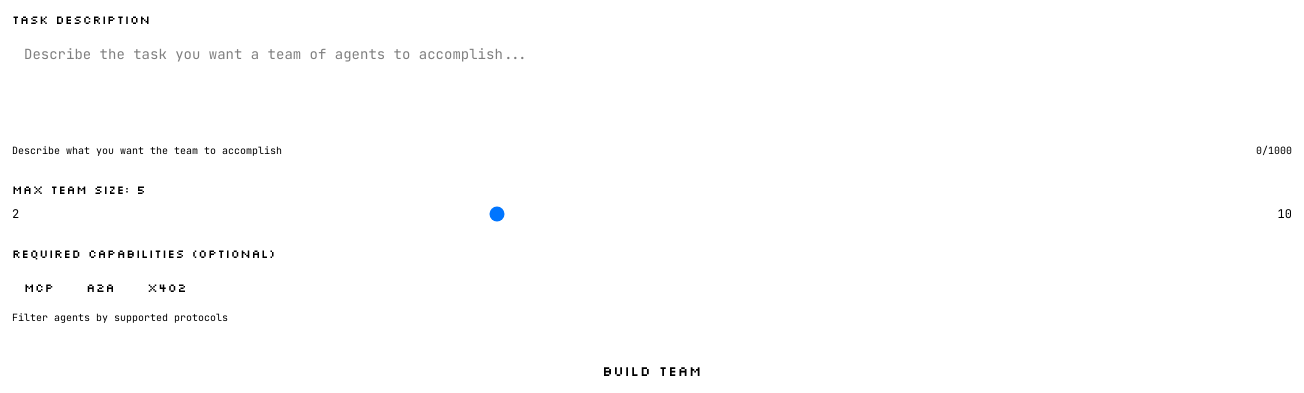
Scenario: TeamComposer › task input › updates character count on input
Step 1. Type "Hello world" into the text box with test id "task-input" → (652, 84), box [12,36,1292,132]
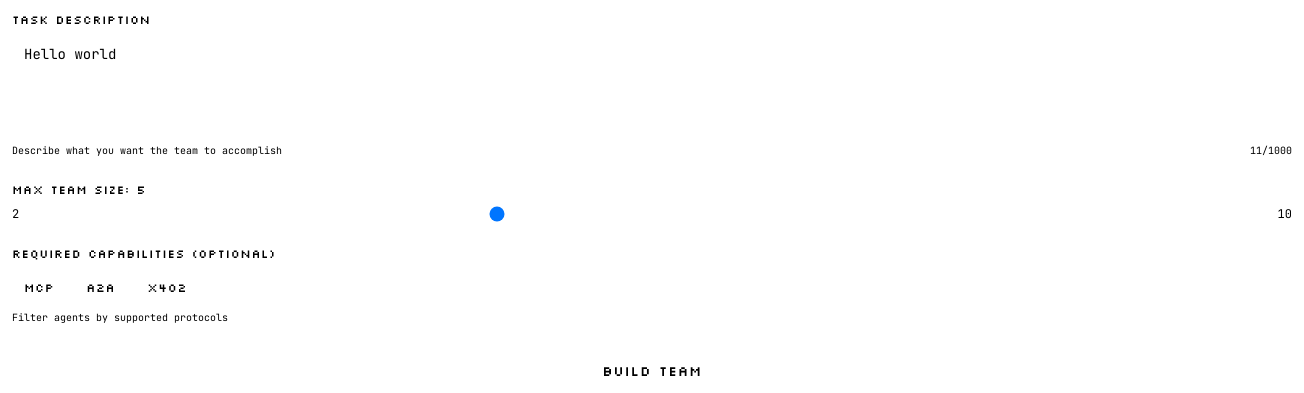
Expected: the text "11/1000" is shown, [1250,143,1292,158]
